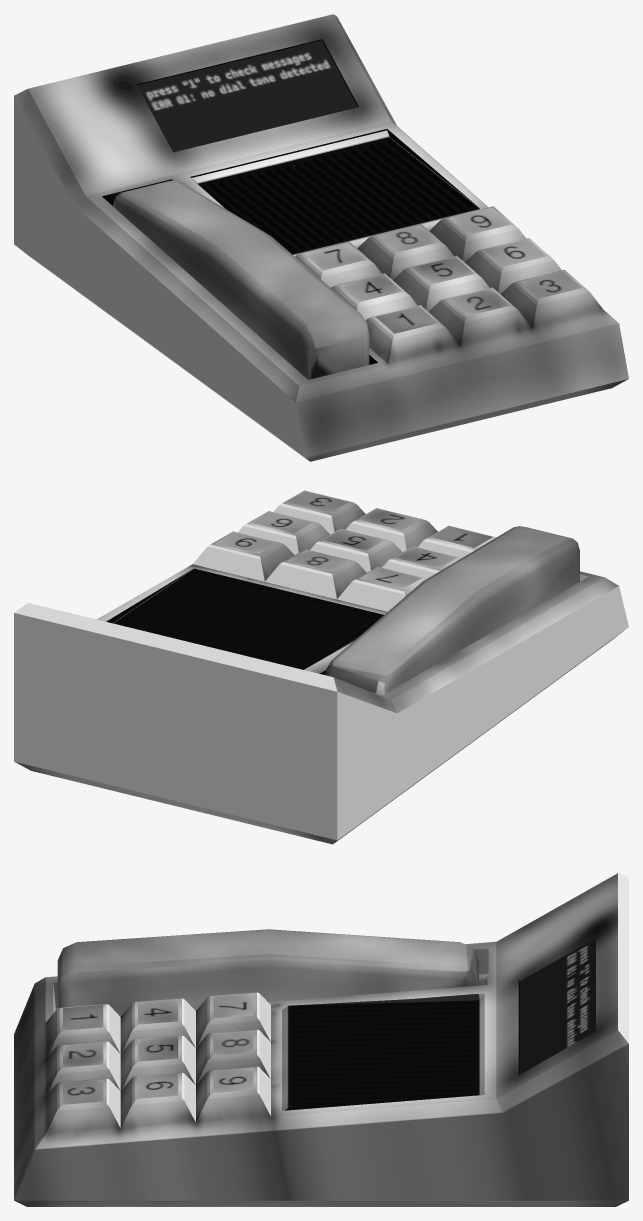
The model's file is phone.glb.
3 renders of one model, top to bottom at view 1: azimuth 30°, elevation 25°; view 2: azimuth 150°, elevation 25°; view 3: azimuth 270°, elevation 25°, orthographic. The views are drawn at different scales.
Visible parts, largest first — view 1: base, handset; view 2: base, handset; view 3: base, handset.
Part boxes in pixels (x1=…): base: x1=14, y1=14, x2=628, y2=461; handset: x1=113, y1=180, x2=369, y2=379; base: x1=14, y1=490, x2=628, y2=844; handset: x1=325, y1=526, x2=579, y2=694; base: x1=14, y1=873, x2=628, y2=1206; handset: x1=57, y1=929, x2=478, y2=1013.
Size of the model in its own units: 1.33 by 0.6594 by 2.07.
2 materials, 2 textured.
